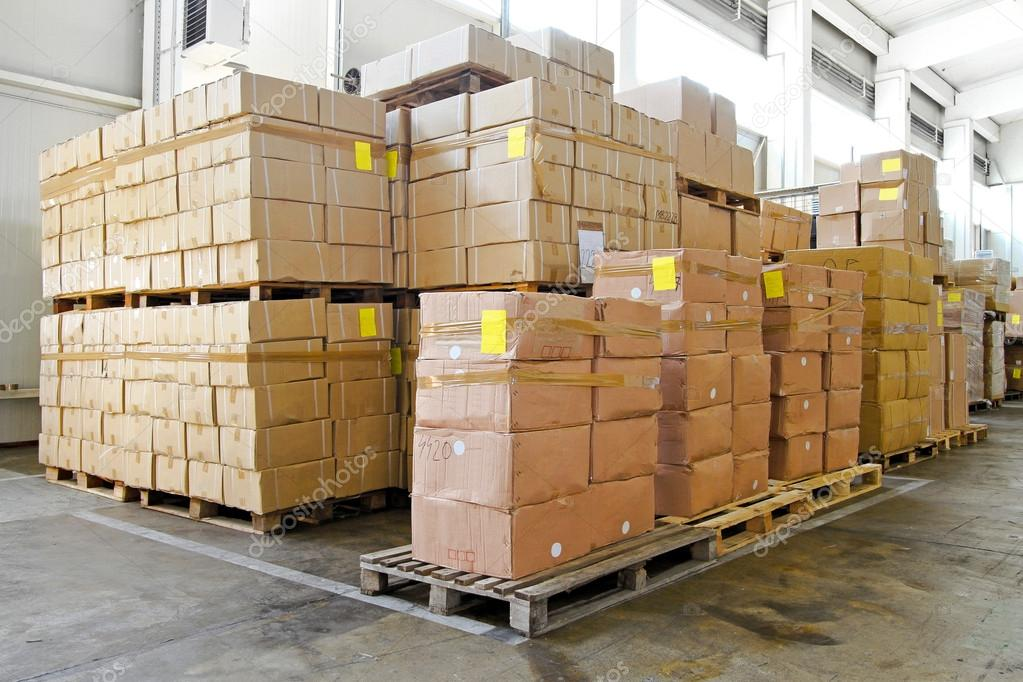pallet: (678, 414, 993, 589), (339, 514, 716, 645), (15, 448, 403, 538)
